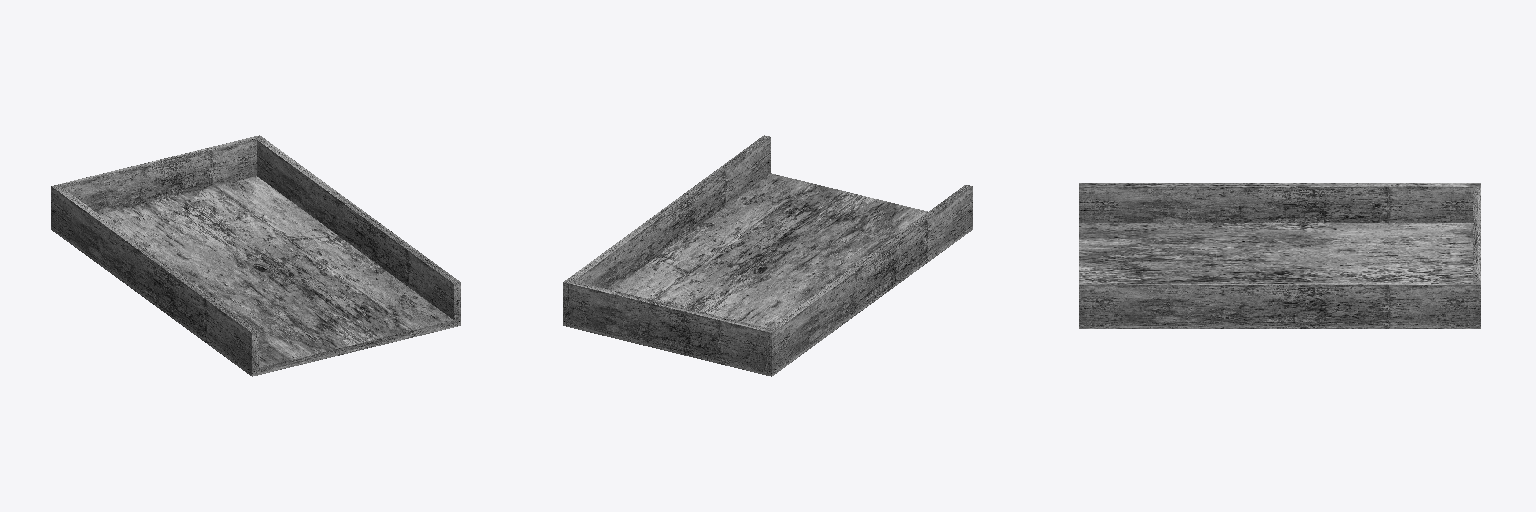
3 renders of one model, left to right at view 1: azimuth 30°, elevation 25°; view 2: azimuth 150°, elevation 25°; view 3: azimuth 270°, elevation 25°, orthographic.
Visible parts, largest first — view 1: Box001, Box002, Box003, Box004; view 2: Box001, Box002, Box003, Box004; view 3: Box001, Box003, Box002, Box004.
Part boxes in pixels (x1,y1,x2,y2): Box001: (51, 176, 460, 376); Box002: (51, 185, 258, 368); Box003: (254, 135, 460, 319); Box004: (58, 137, 256, 214); Box001: (563, 173, 972, 376); Box002: (765, 185, 972, 368); Box003: (563, 135, 770, 319); Box004: (570, 281, 768, 367); Box001: (1079, 223, 1480, 328); Box003: (1079, 282, 1480, 321); Box002: (1079, 183, 1480, 222); Box004: (1473, 187, 1480, 281).
Bounding box in the file's own units: 60 × 12 × 100.
1 materials, 1 textured.